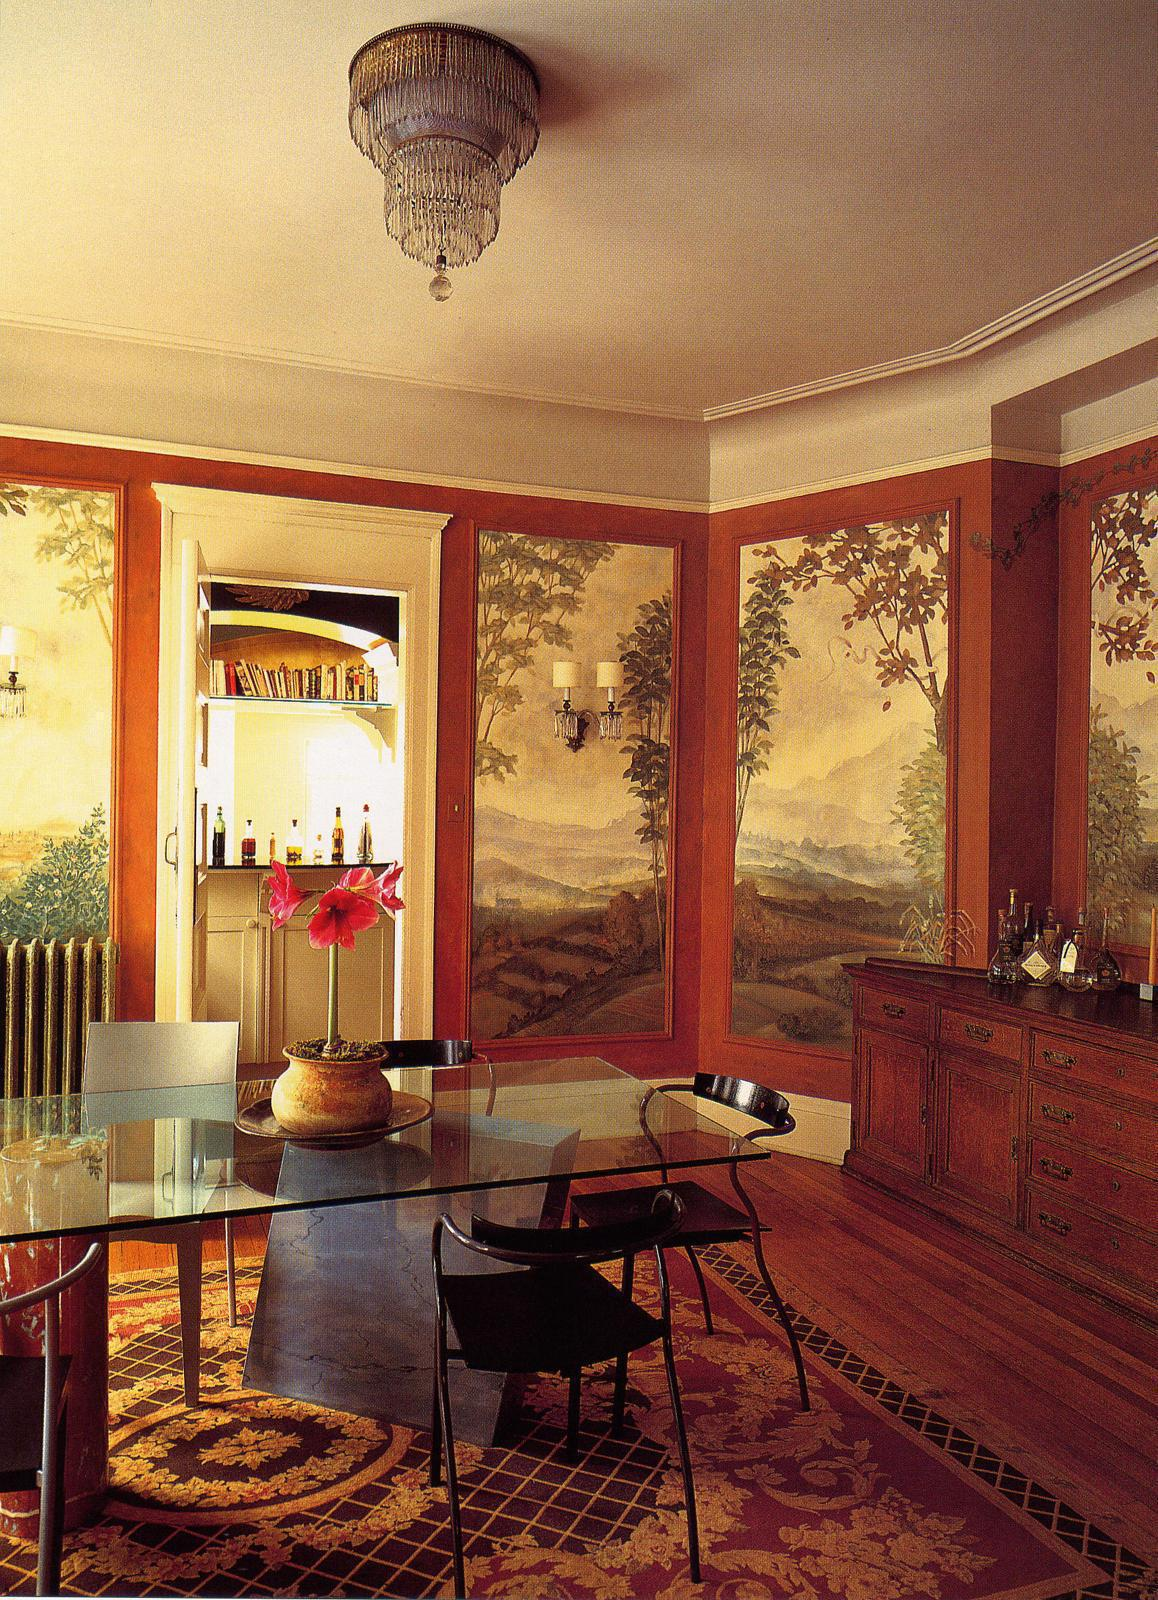Matera: (263, 852, 447, 1152)
